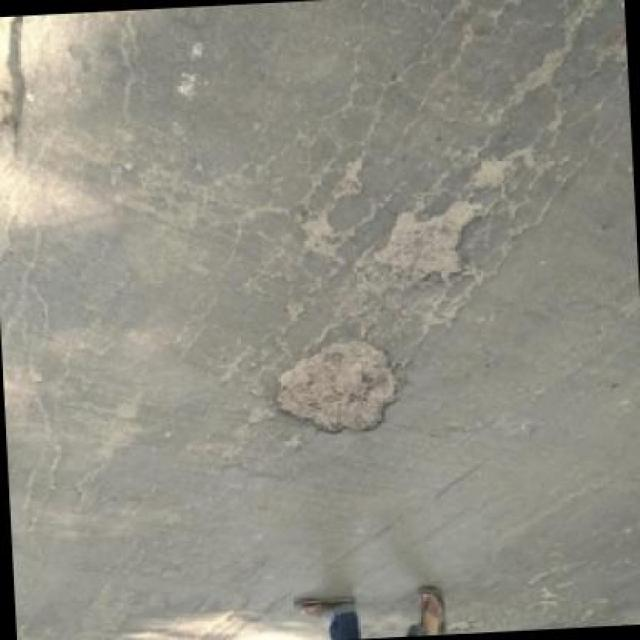pothole1: (272, 334, 408, 440), (372, 200, 496, 286)
